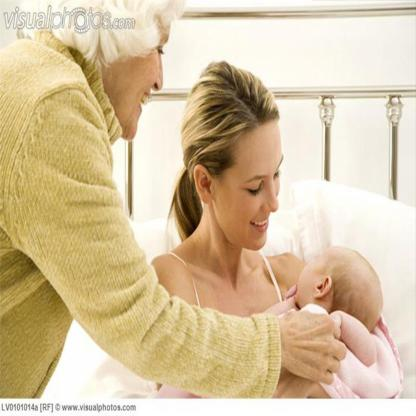face: (215, 123, 283, 250), (108, 2, 171, 139)
